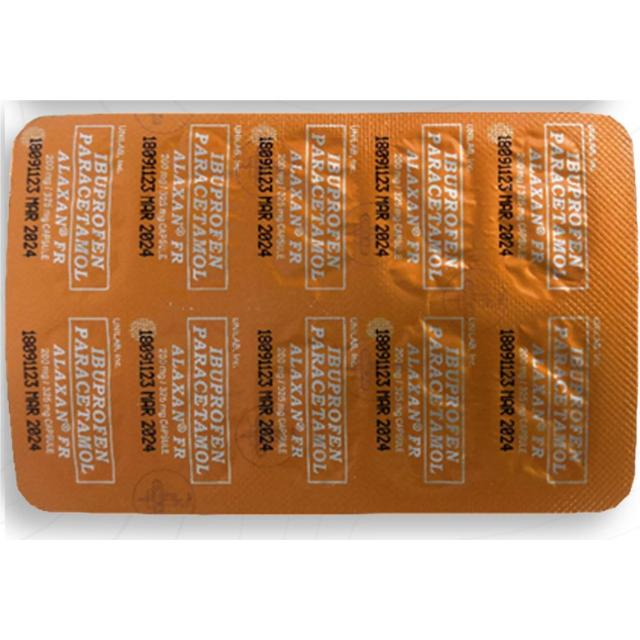blister: (7, 108, 638, 524)
